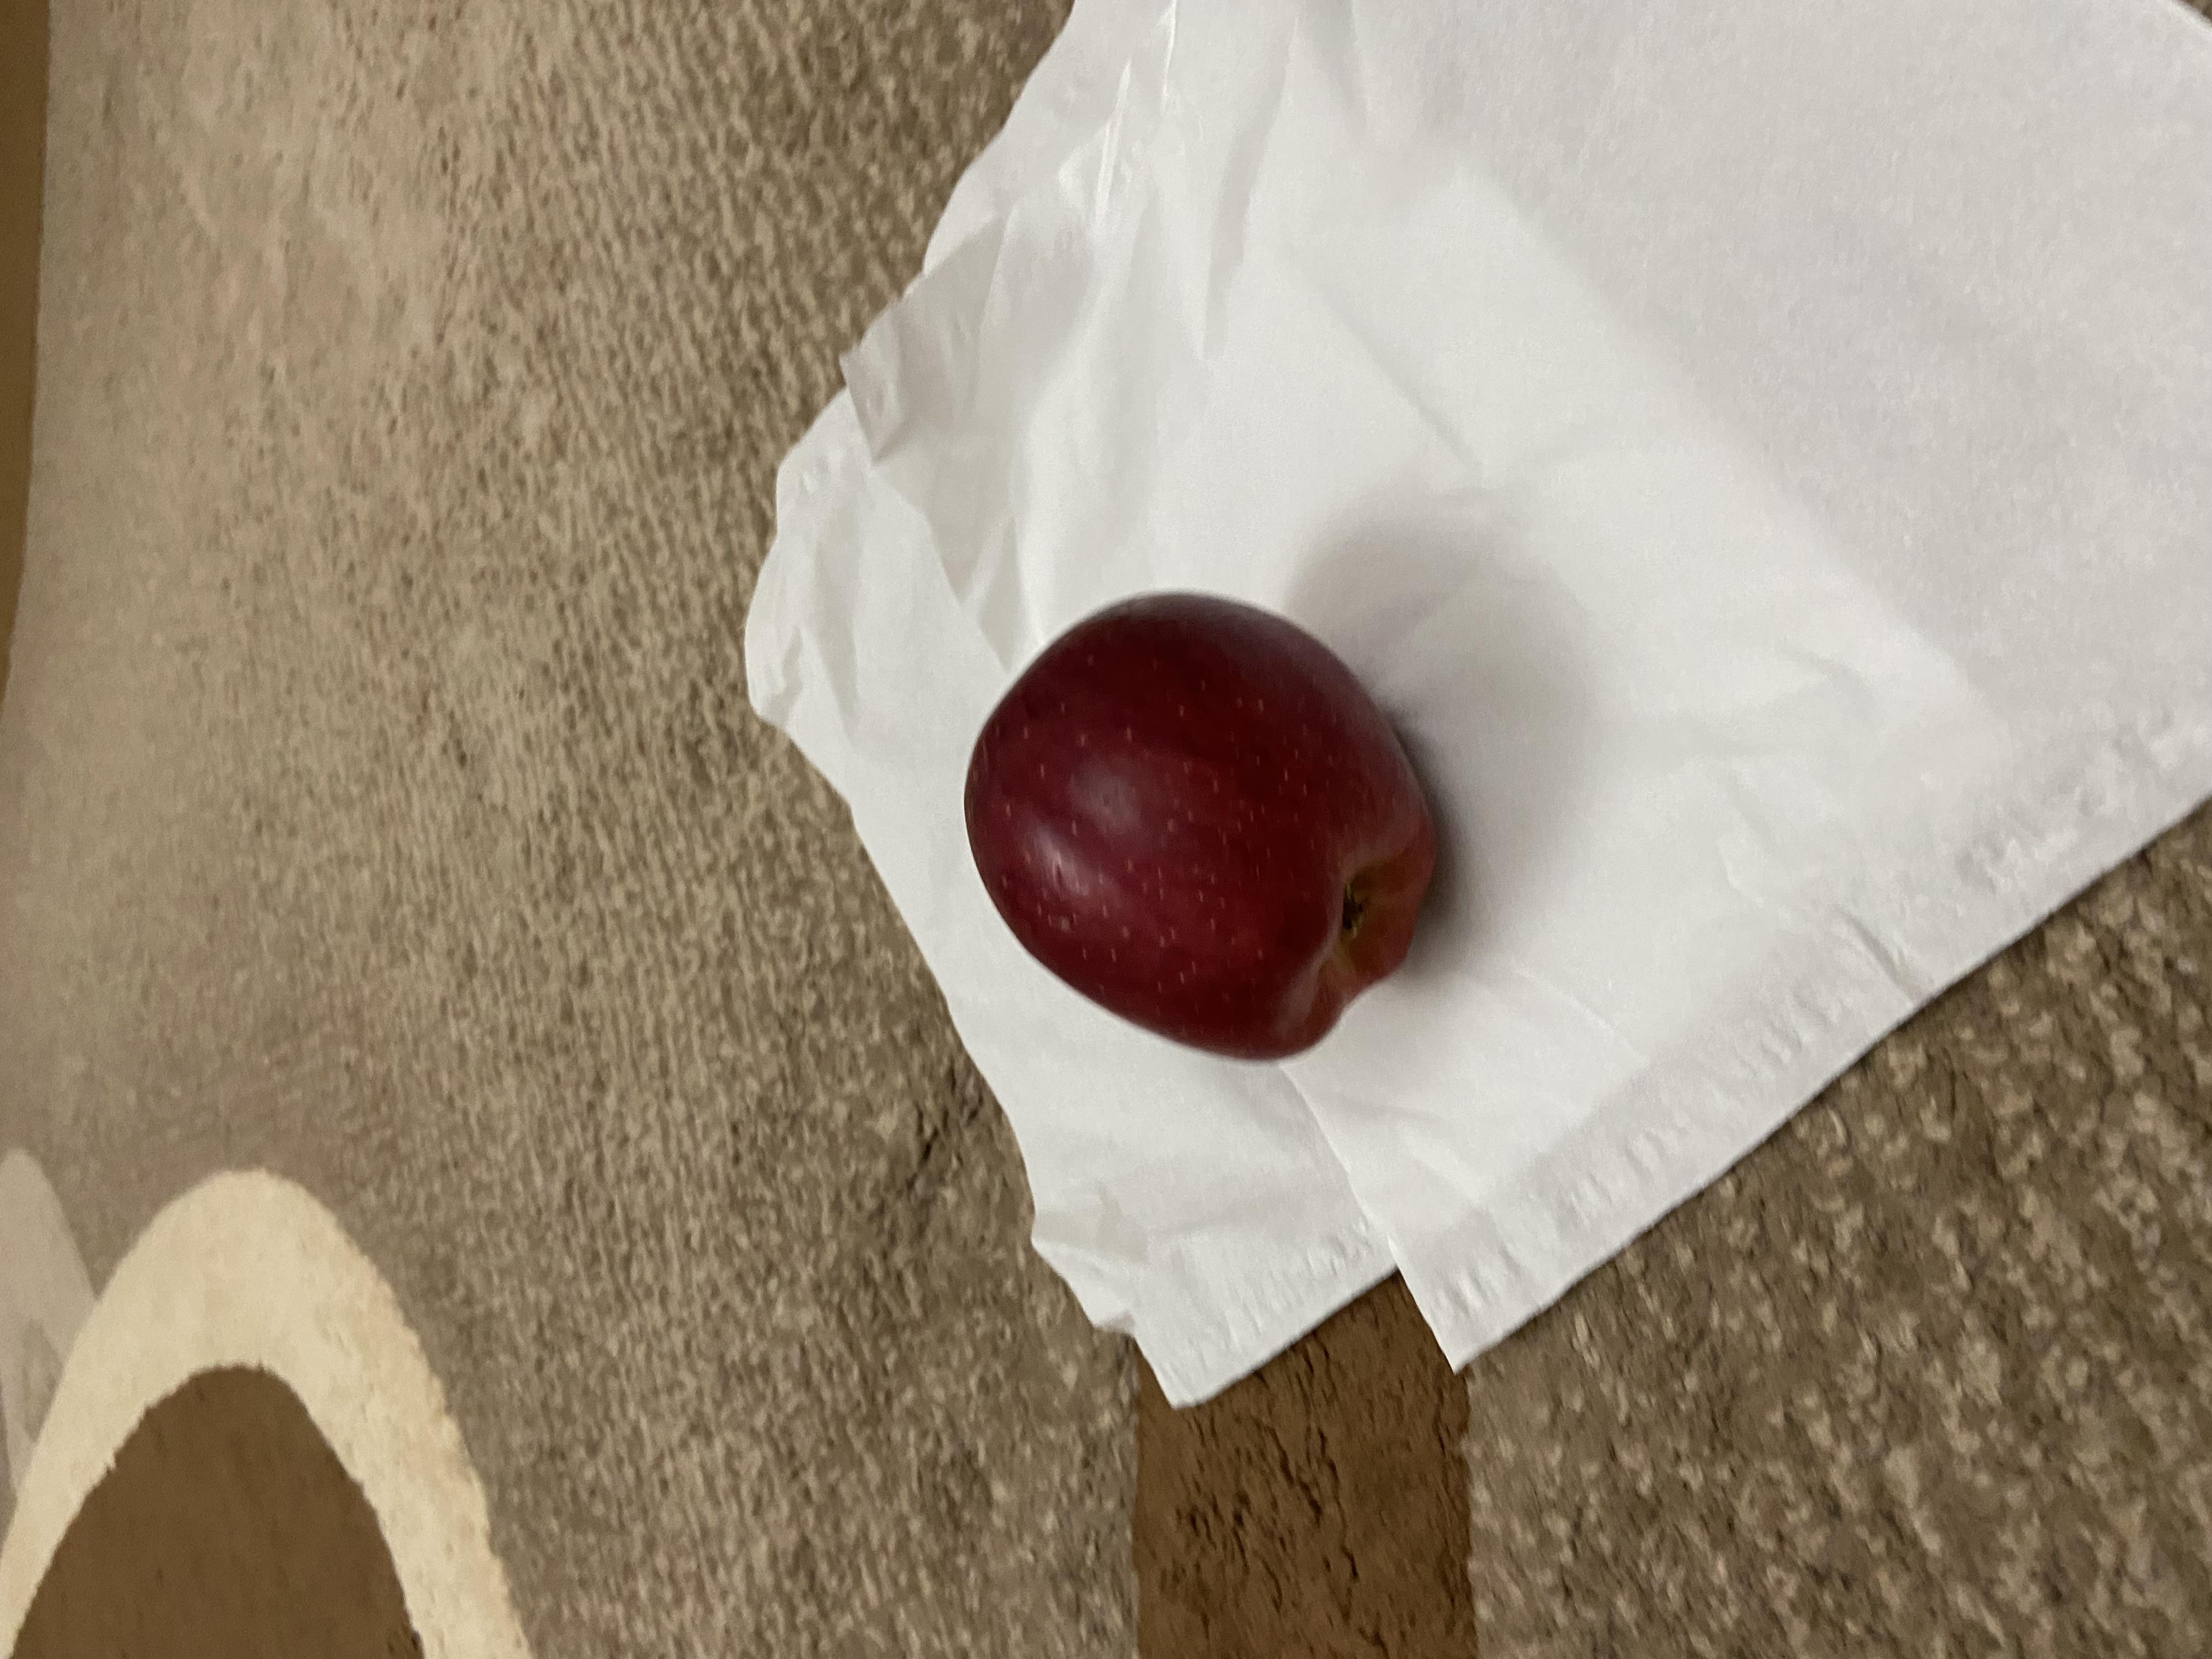Apple: (786, 711, 1426, 1086)
